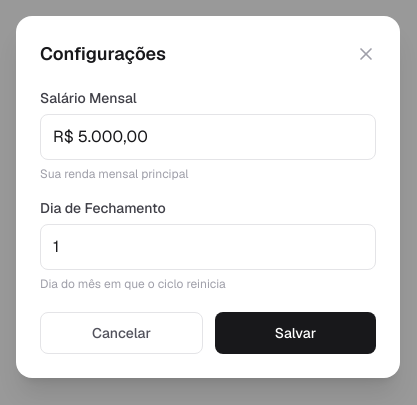
Test: SettingsModal › should show loading state while saving
The image size is (417, 405).
Click the button "Salvar": (296, 333) [215,312,376,354]
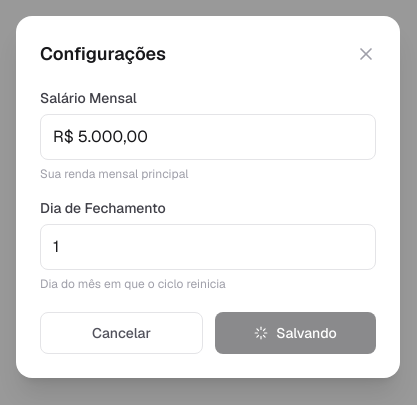
Expected: the button "Salvando" is disabled, [215,312,376,354]
